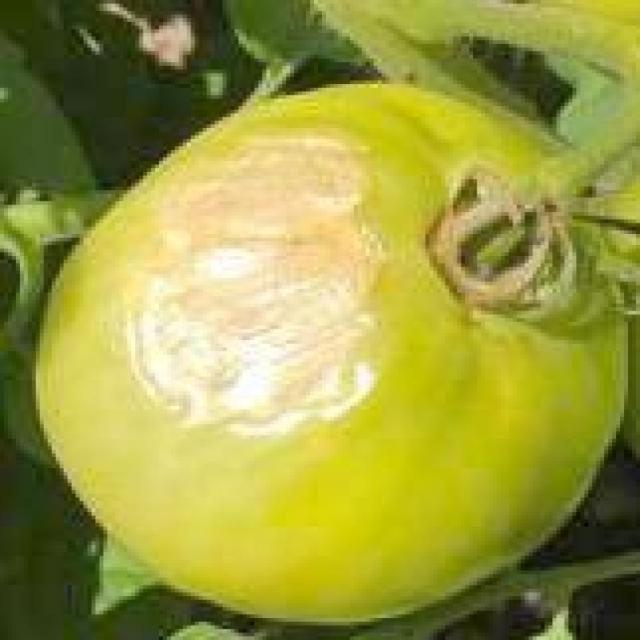Sunscald Fruit: (77, 77, 278, 291)
